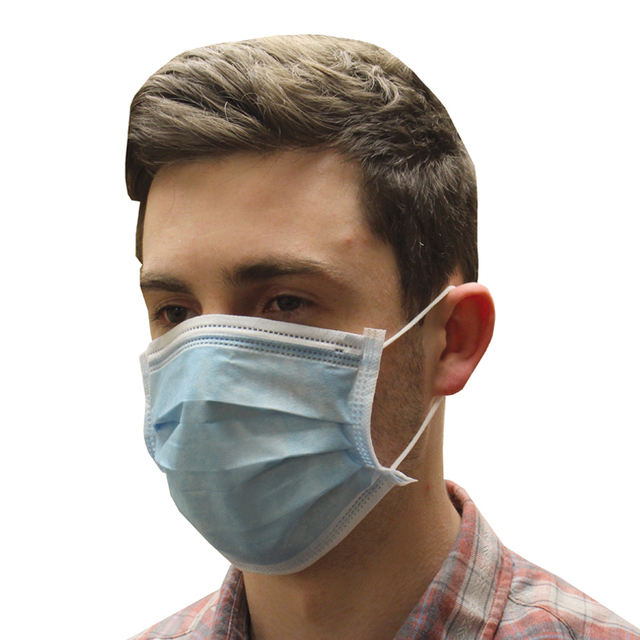mask: (136, 339, 406, 553)
